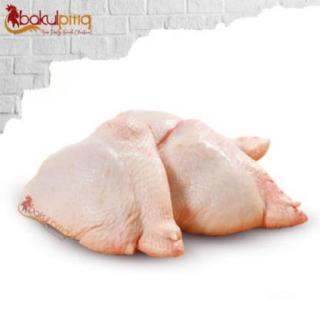Ayam: (28, 110, 187, 261), (166, 118, 307, 238)
